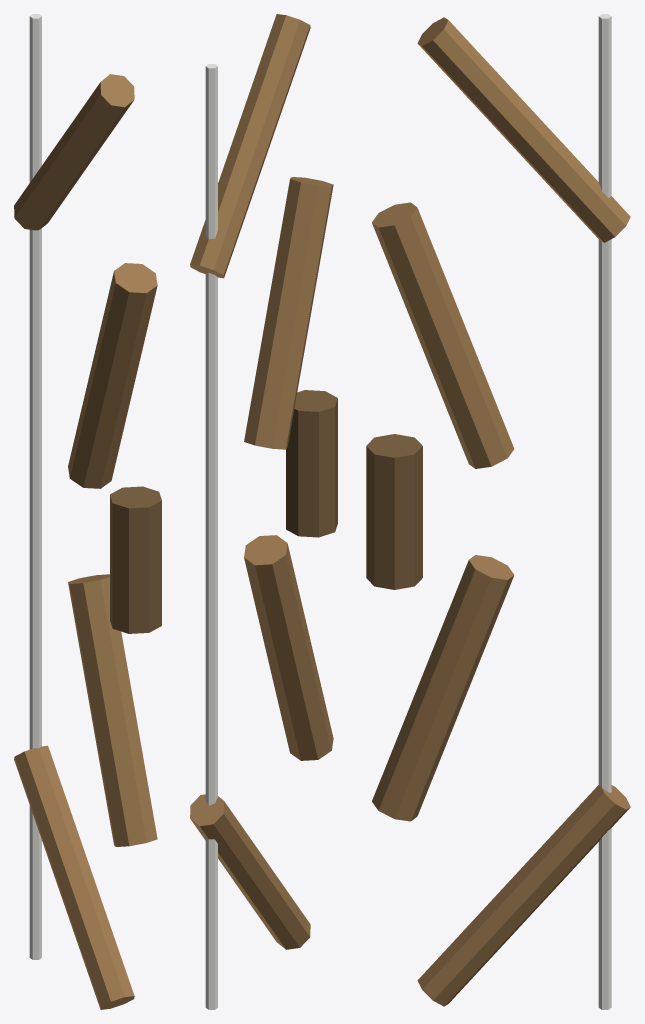
Rendered from hunting_bow.glb.
The picture shows the model from 3 angles, left to right: view 1: azimuth 30°, elevation 25°; view 2: azimuth 150°, elevation 25°; view 3: azimuth 270°, elevation 25°; orthographic projection. The views are drawn at different scales.
Parts seen in each view (by area): view 1: Cylinder.002, BowString, Cylinder, Cylinder.003, BowGrip, Cylinder.001; view 2: Cylinder, BowString, Cylinder.002, Cylinder.001, BowGrip, Cylinder.003; view 3: Cylinder, Cylinder.002, BowString, Cylinder.001, Cylinder.003, BowGrip.
Boxes of the visible parts, bbox=[...] form: Cylinder.002: bbox=[68, 574, 157, 846]; BowString: bbox=[29, 14, 41, 959]; Cylinder: bbox=[68, 263, 157, 488]; Cylinder.003: bbox=[14, 745, 134, 1009]; BowGrip: bbox=[110, 486, 161, 633]; Cylinder.001: bbox=[14, 74, 134, 230]; Cylinder: bbox=[244, 177, 333, 449]; BowString: bbox=[205, 64, 217, 1009]; Cylinder.002: bbox=[244, 535, 333, 760]; Cylinder.001: bbox=[190, 14, 310, 278]; BowGrip: bbox=[286, 390, 337, 537]; Cylinder.003: bbox=[190, 794, 310, 949]; Cylinder: bbox=[372, 202, 514, 468]; Cylinder.002: bbox=[372, 555, 514, 821]; BowString: bbox=[598, 14, 611, 1009]; Cylinder.001: bbox=[417, 17, 630, 242]; Cylinder.003: bbox=[417, 785, 630, 1006]; BowGrip: bbox=[366, 434, 422, 589].
Bounding box in the file's own units: 0.07 × 1.35 × 0.3266.
